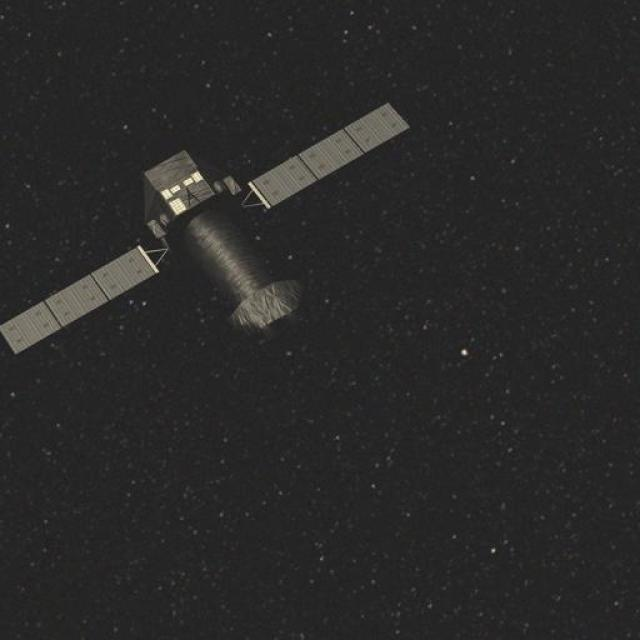xmm_newton: (0, 93, 406, 366)
